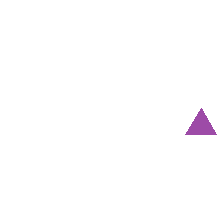triangle: (185, 108, 216, 134)
